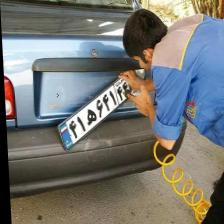plate: (53, 73, 133, 152)
